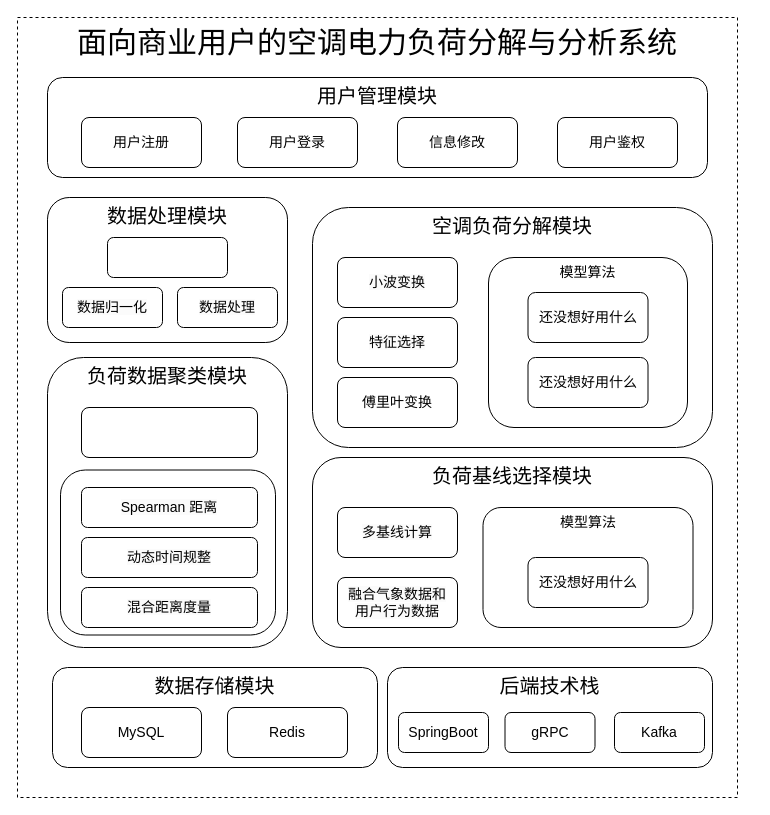
Some shapes in this 770 by 815 pixel diagram are drawn without their labels. The centre of each missing label's shape, as x and y in pixels:
KMeans算法: (x=169, y=432)
数据集上传: (x=167, y=257)
